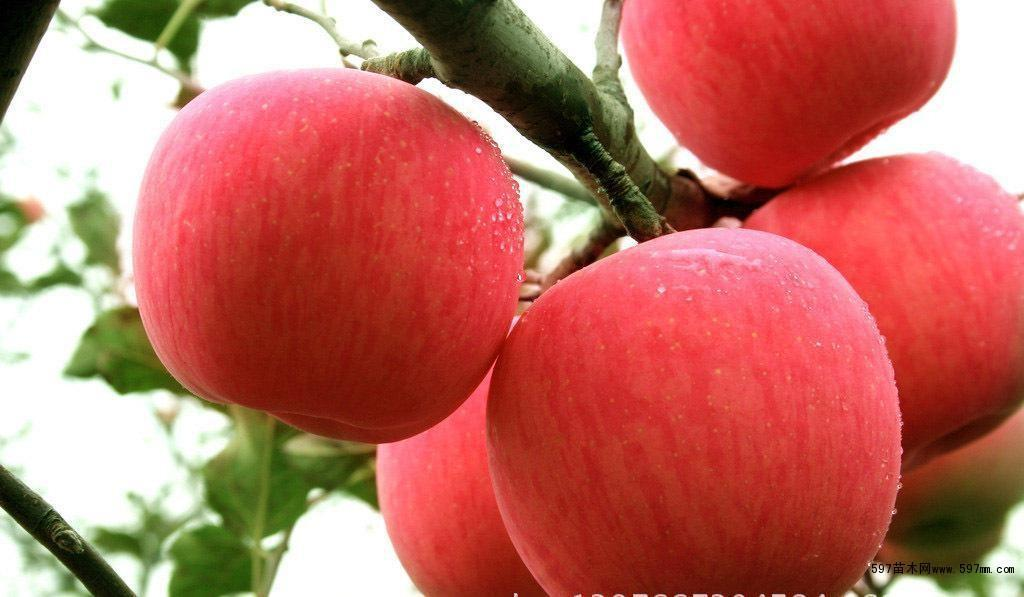apple: (487, 227, 909, 597), (126, 69, 530, 444), (733, 154, 1024, 472), (615, 1, 958, 185), (369, 319, 550, 597)
